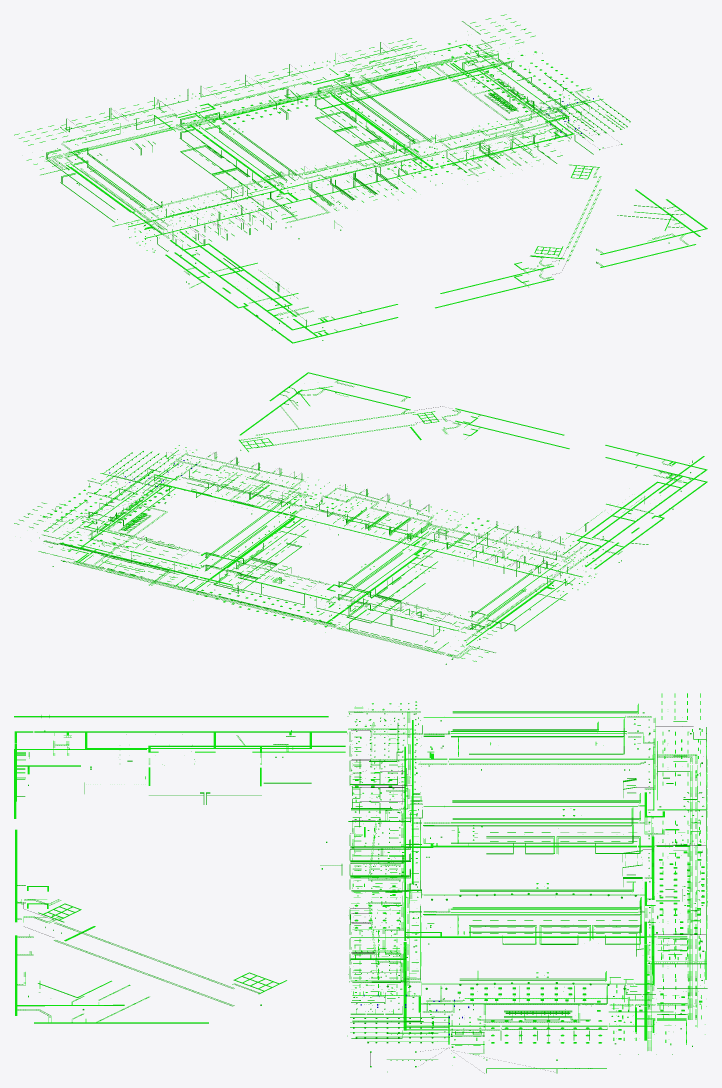
3 views of the same model, one above another, from view 1: azimuth 30°, elevation 25°; view 2: azimuth 150°, elevation 25°; view 3: azimuth 270°, elevation 25° (orthographic). The views are drawn at different scales.
Parts seen in each view (by area): view 1: no part large enough to name; view 2: no part large enough to name; view 3: 3N7Ql70NjB$xeUSQfv5JM5, 1iAllVJ1z1bxqSP9tZuePz, 3mVqbiFq1AQehU05HwGwJ2.
Part boxes in pixels (x1,y1,x2,y2): 3N7Ql70NjB$xeUSQfv5JM5: (14, 716, 328, 717); 1iAllVJ1z1bxqSP9tZuePz: (34, 731, 346, 732); 3mVqbiFq1AQehU05HwGwJ2: (433, 845, 636, 847).
Bounding box in the file's own units: 133 × 11.55 × 119.
